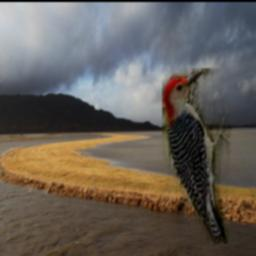Woodpecker: (162, 69, 230, 245)
